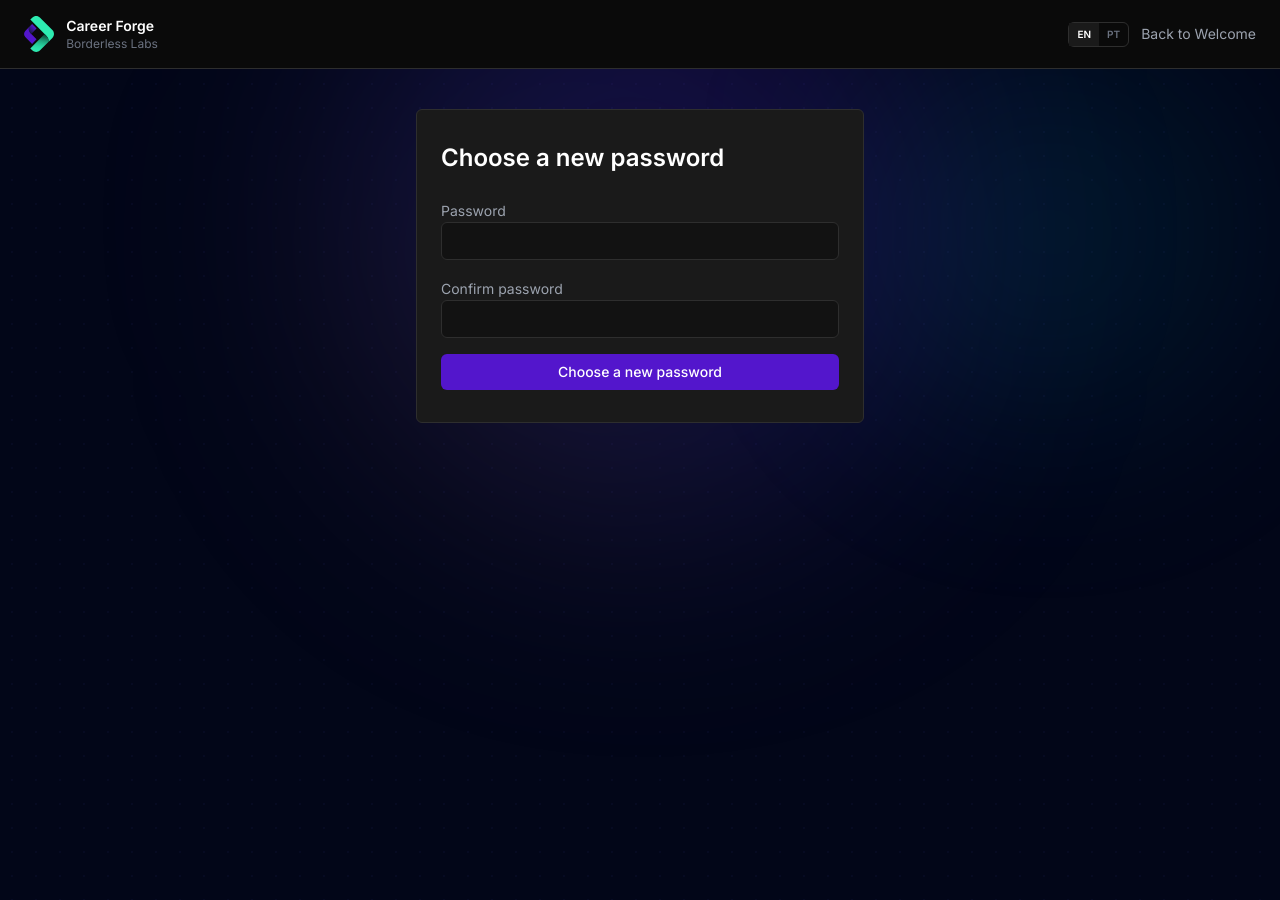
account link pages › keeps the new-password form when saving fails for another reason
In the password field with test id "account-reset-password": coordinates (640, 241) [441,222,839,260], type "career-forge-secret"
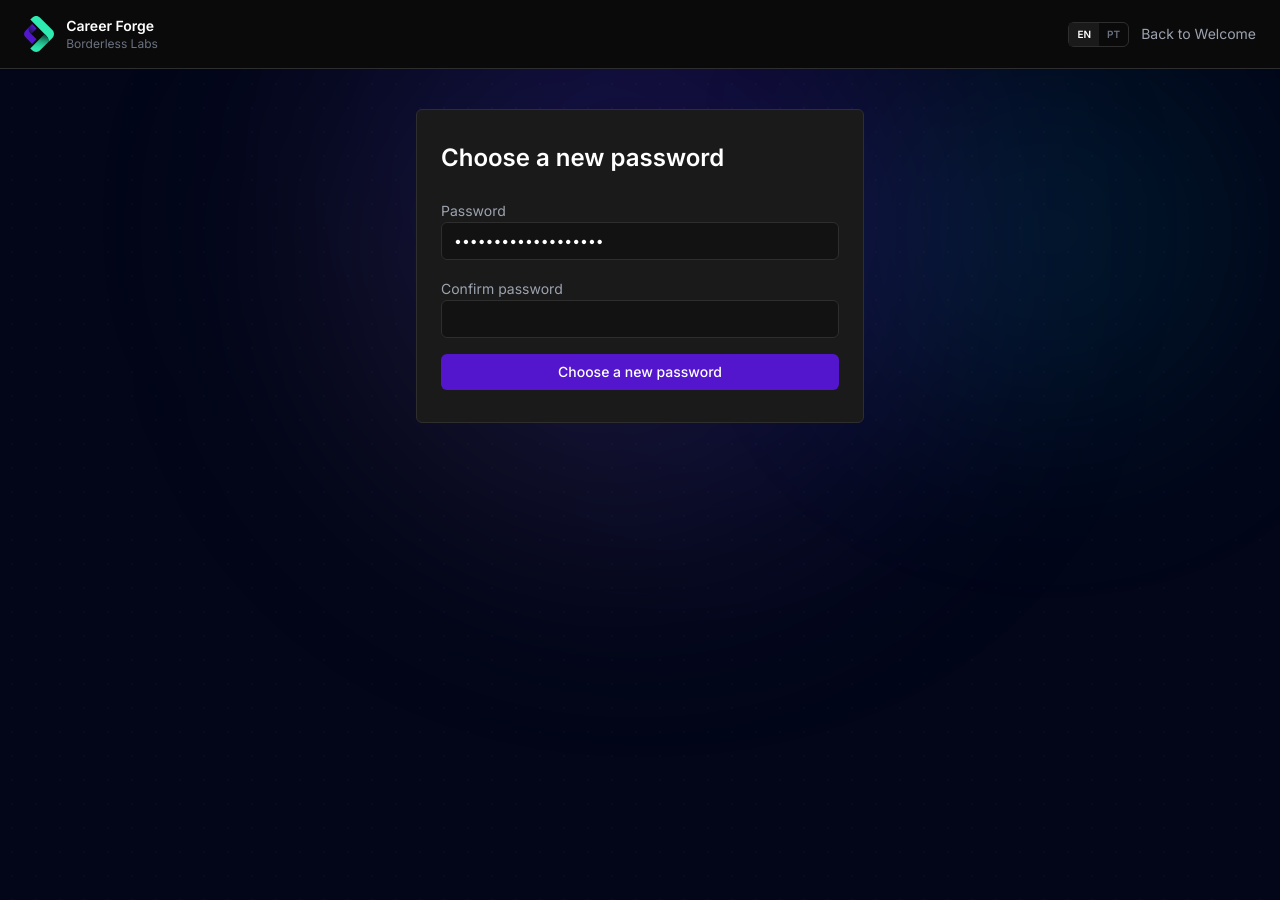
In the password field with test id "account-reset-confirm": coordinates (640, 319) [441,300,839,338], type "career-forge-secret"
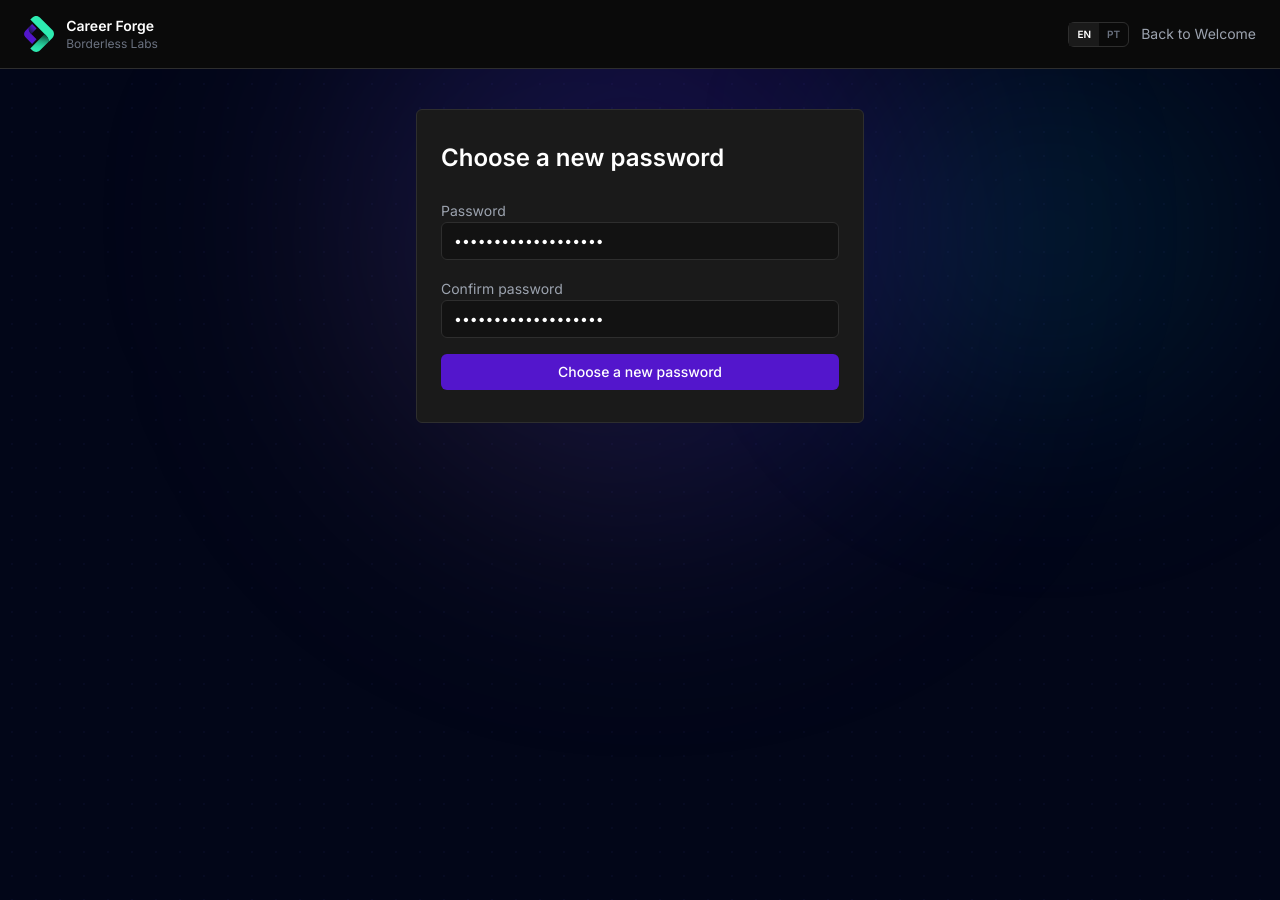
Click the button with test id "account-reset-submit": coordinates (640, 372) [441,354,839,390]
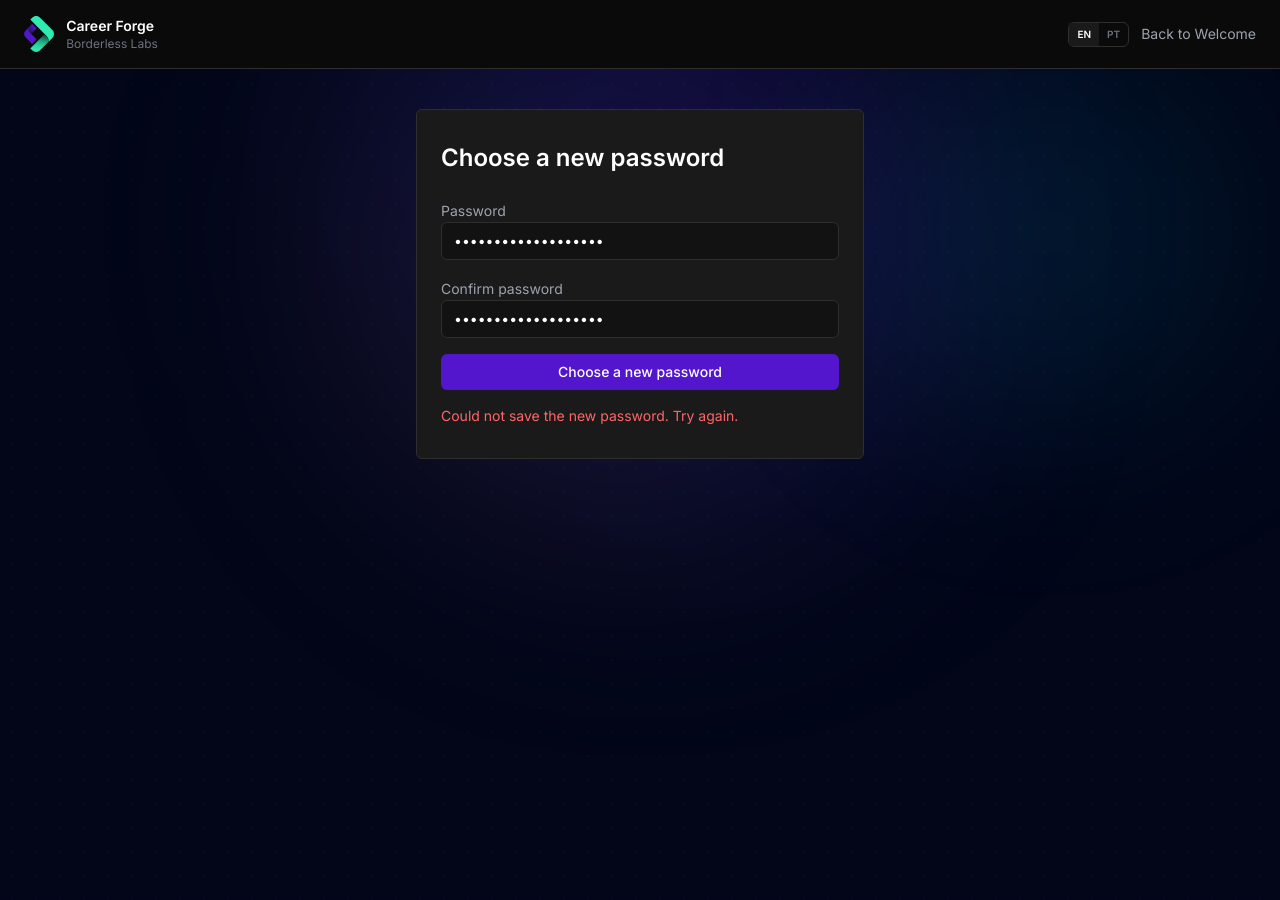
Check: the text with test id "account-reset-error" reads "Could not save the new password. Try again.", box [441,407,738,424]
